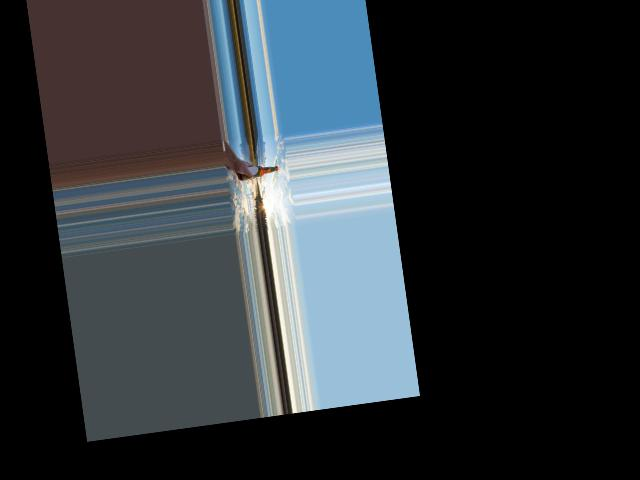beer: (238, 163, 279, 181)
